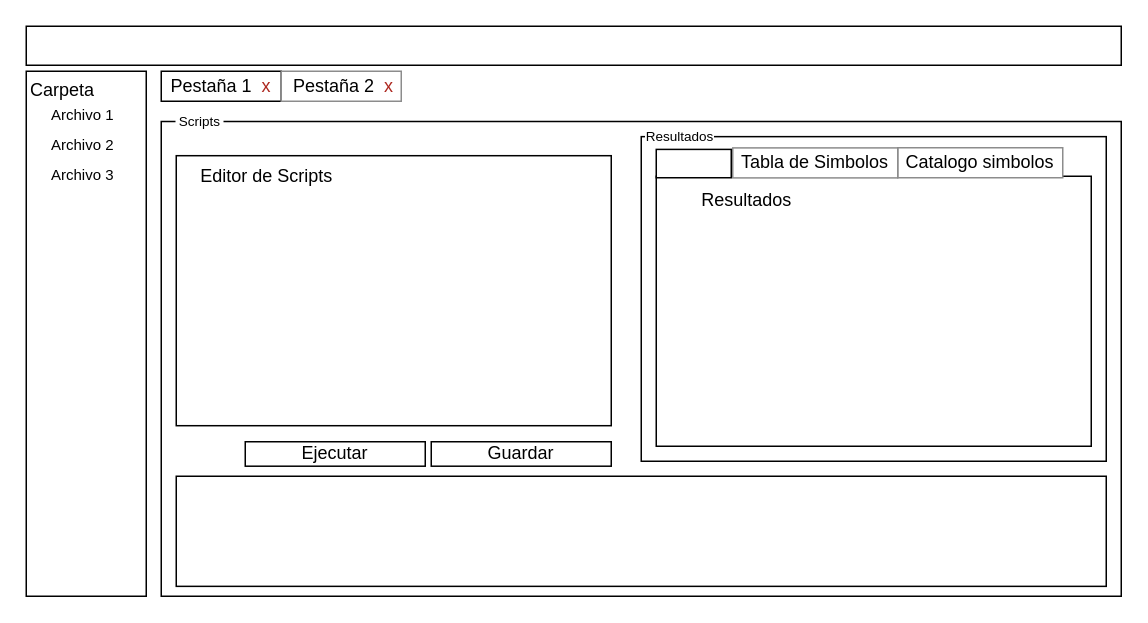
Image size: 1148x623. Some labels were removed from this diagram. The shapes that lost their labels are listed below. From the top down, each one's box as (x1, y1, x2, y2) in pixels, then its label:
(25, 25, 1121, 65): Abrir proyecto Acerca de
(655, 148, 731, 178): AST
(175, 475, 1106, 586): Errores de análisis - Léxico - Sintáctico - Semántico
